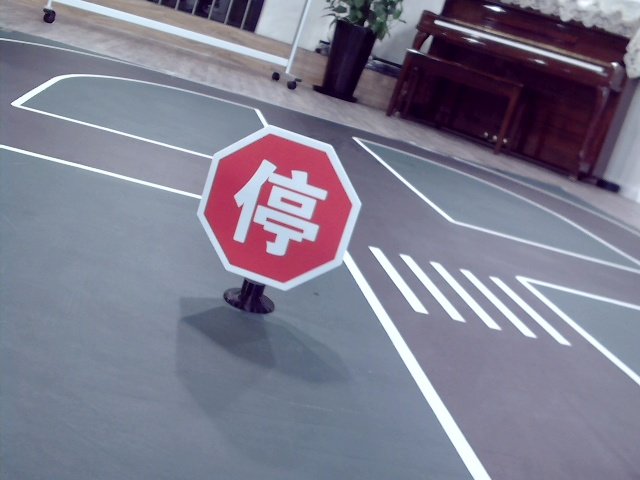stop: (233, 154, 323, 254)
